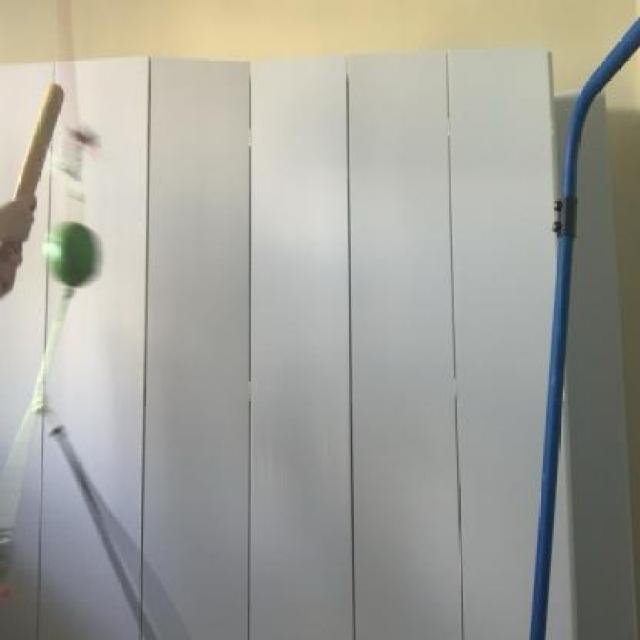baseball: (34, 218, 106, 288)
